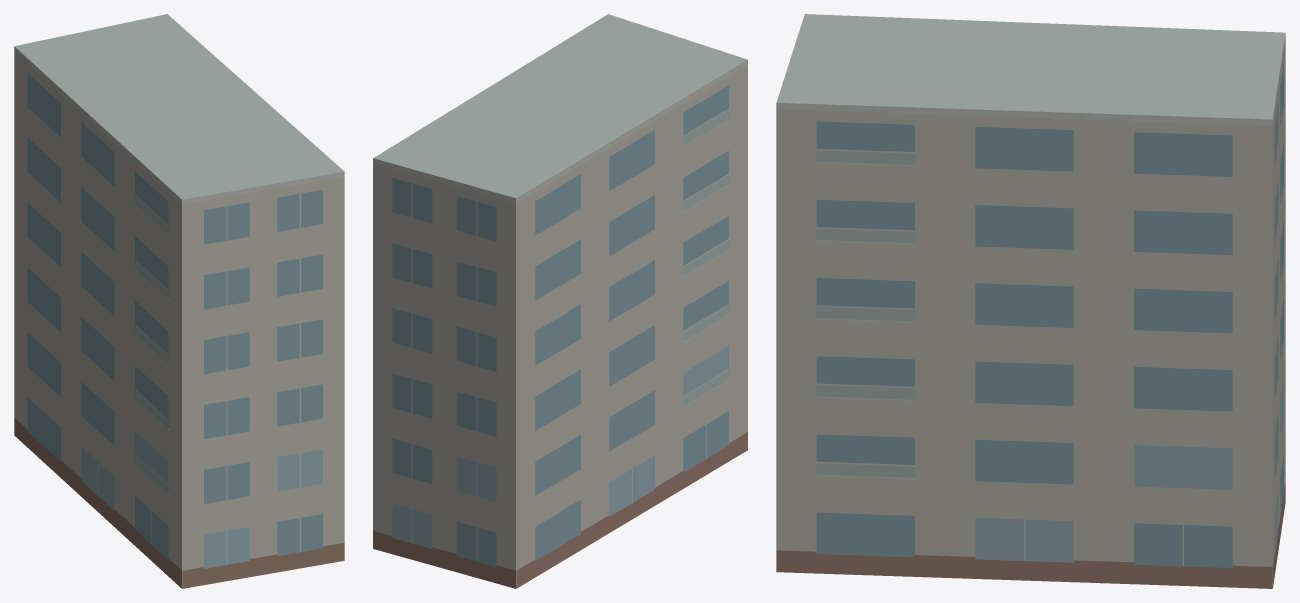
File: survey-upis-33004026.glb
The picture shows the model from 3 angles, left to right: view 1: azimuth 30°, elevation 25°; view 2: azimuth 150°, elevation 25°; view 3: azimuth 270°, elevation 25°; orthographic projection. The views are drawn at different scales.
Parts seen in each view (by area): view 1: survey-upis-33004026.tmp; view 2: survey-upis-33004026.tmp; view 3: survey-upis-33004026.tmp.
Part boxes in pixels (x1,y1,x2,y2): survey-upis-33004026.tmp: (14,14,344,588); survey-upis-33004026.tmp: (373,14,747,588); survey-upis-33004026.tmp: (776,14,1285,588).
Size of the model in its own units: 8.71 by 18.05 by 17.76.
